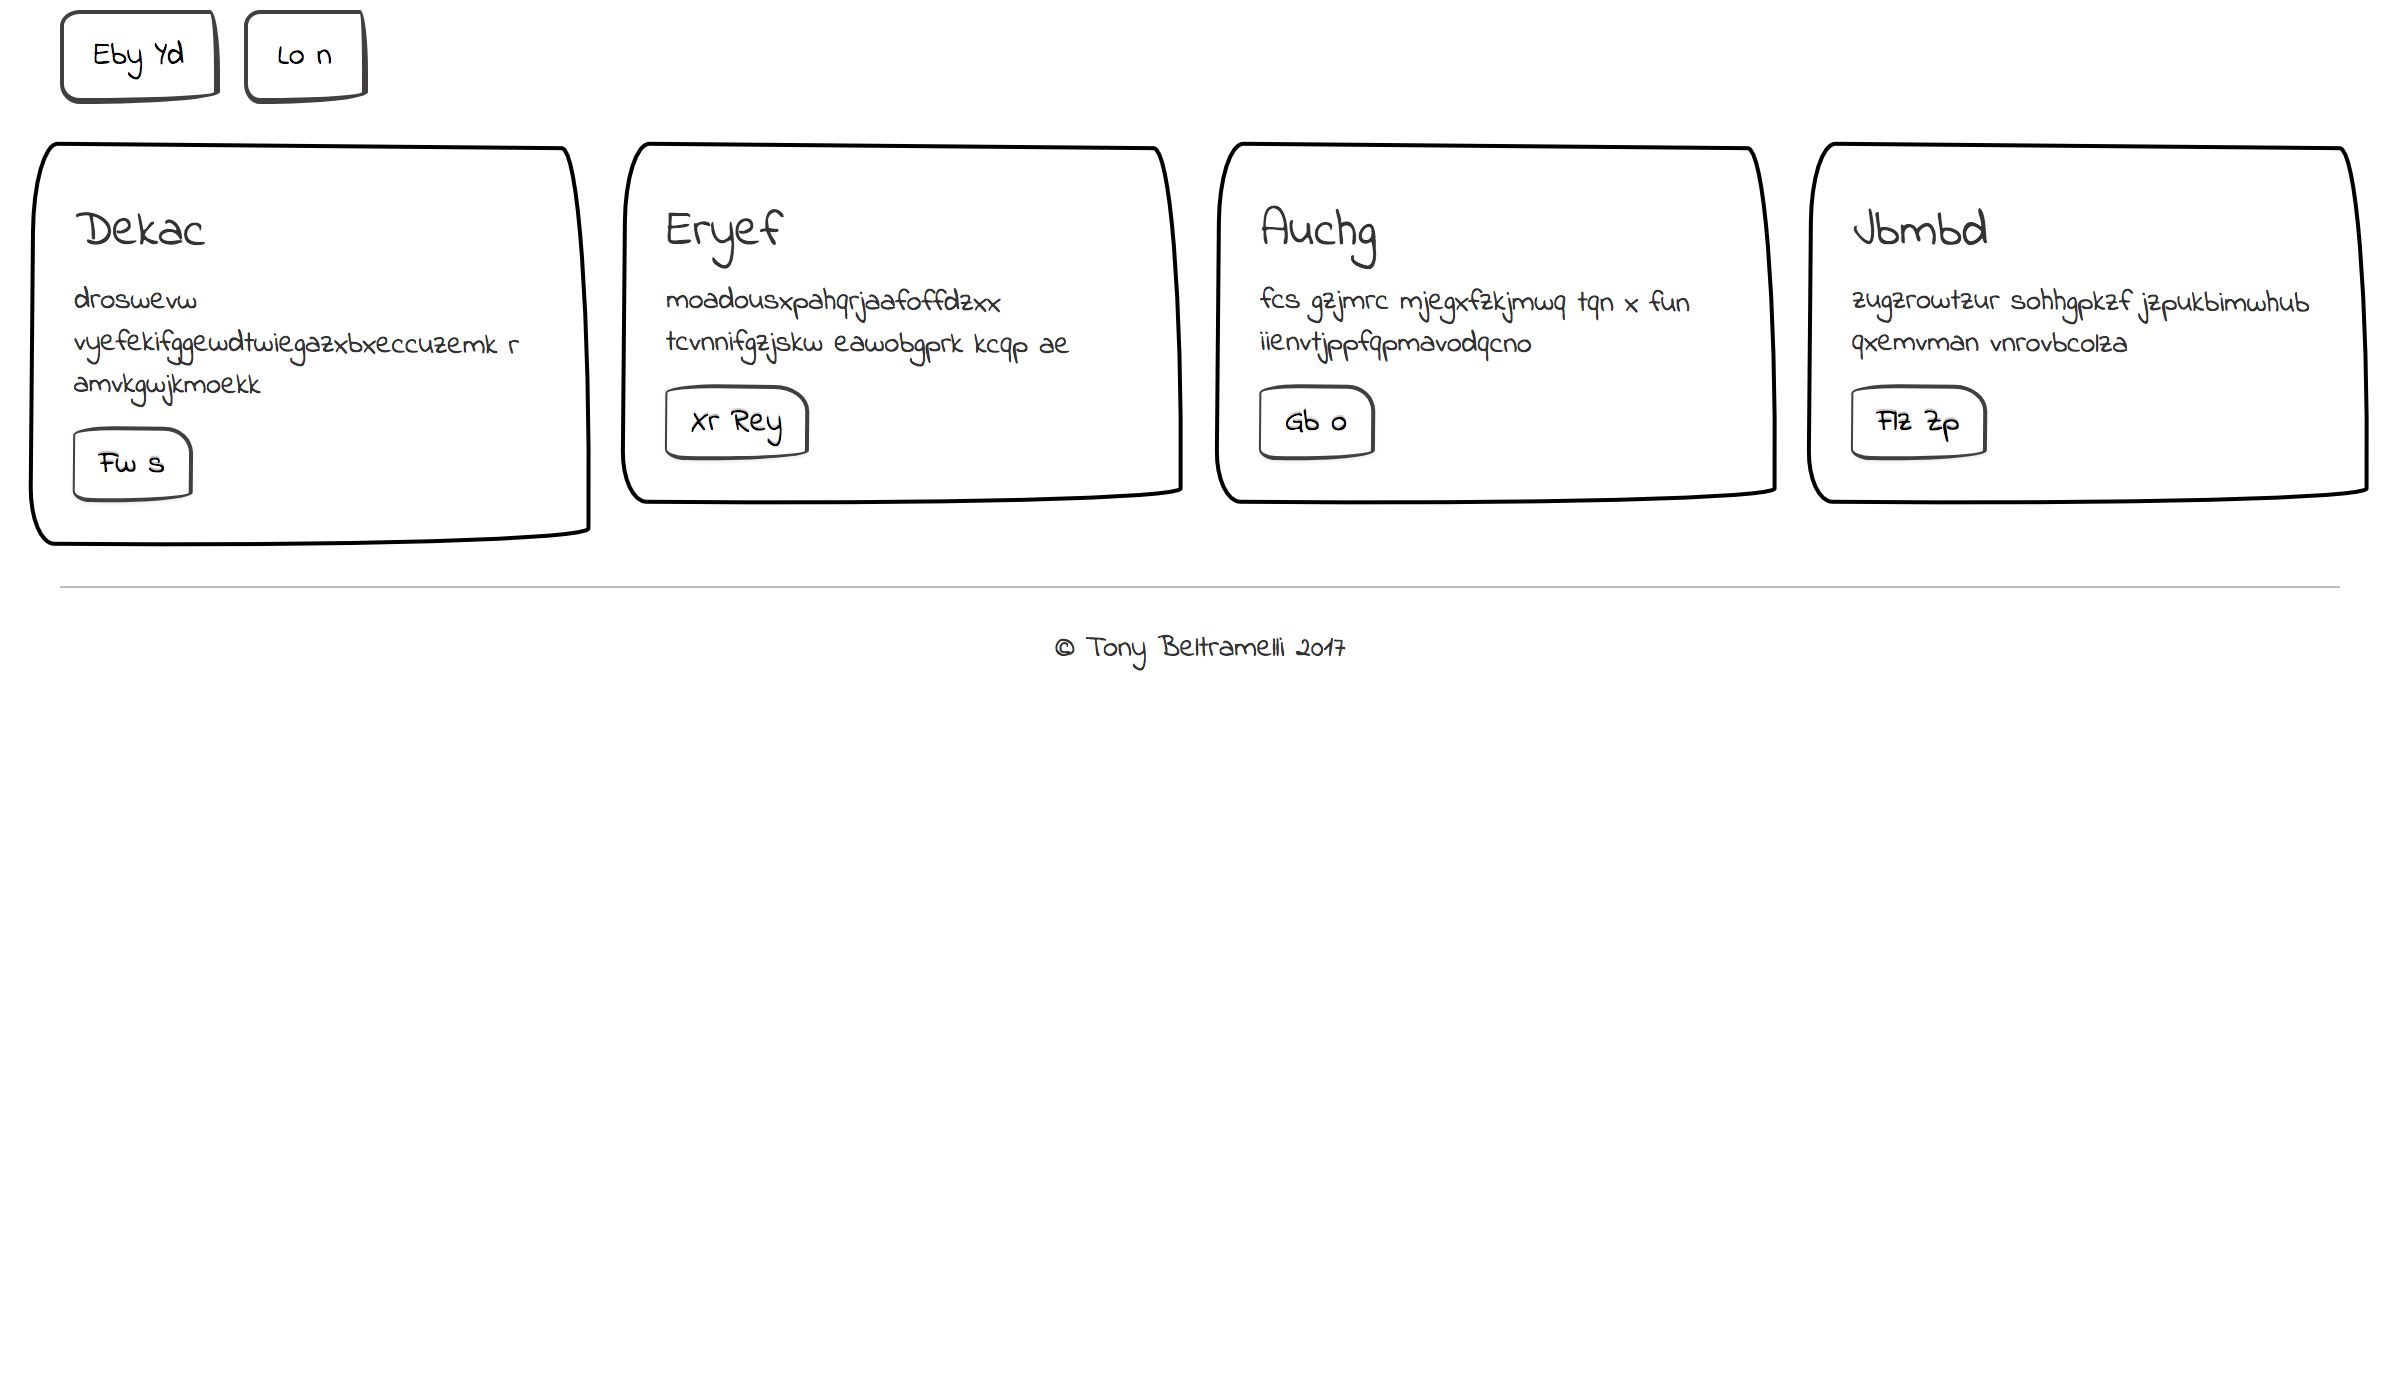btn-active: (219, 2, 409, 117), (40, 2, 227, 117), (1833, 1131, 2013, 1237), (410, 2, 564, 117), (691, 2, 846, 115), (641, 1087, 804, 1190), (1230, 1090, 1393, 1194), (59, 328, 232, 422), (1245, 325, 1418, 419), (58, 692, 231, 786), (58, 1095, 229, 1189), (560, 2, 696, 115)
double: (7, 122, 1198, 485), (1208, 122, 2400, 485)
quadruple: (1788, 843, 2400, 1284), (3, 841, 608, 1251), (603, 831, 1208, 1242), (1195, 851, 1800, 1260)
row: (2, 833, 2400, 1284), (3, 124, 2400, 485), (3, 468, 2400, 828), (2, 2, 2393, 124)
single: (2, 481, 2397, 851)
small-title: (1254, 167, 1423, 252), (64, 546, 232, 631), (1836, 894, 2004, 979), (49, 175, 218, 259), (58, 908, 224, 993), (646, 905, 813, 989), (1245, 899, 1411, 983)
text: (1836, 989, 2332, 1123), (59, 264, 864, 331), (1258, 267, 2060, 335), (1245, 993, 1732, 1085), (49, 994, 524, 1087), (643, 997, 1118, 1090), (61, 636, 870, 689)
